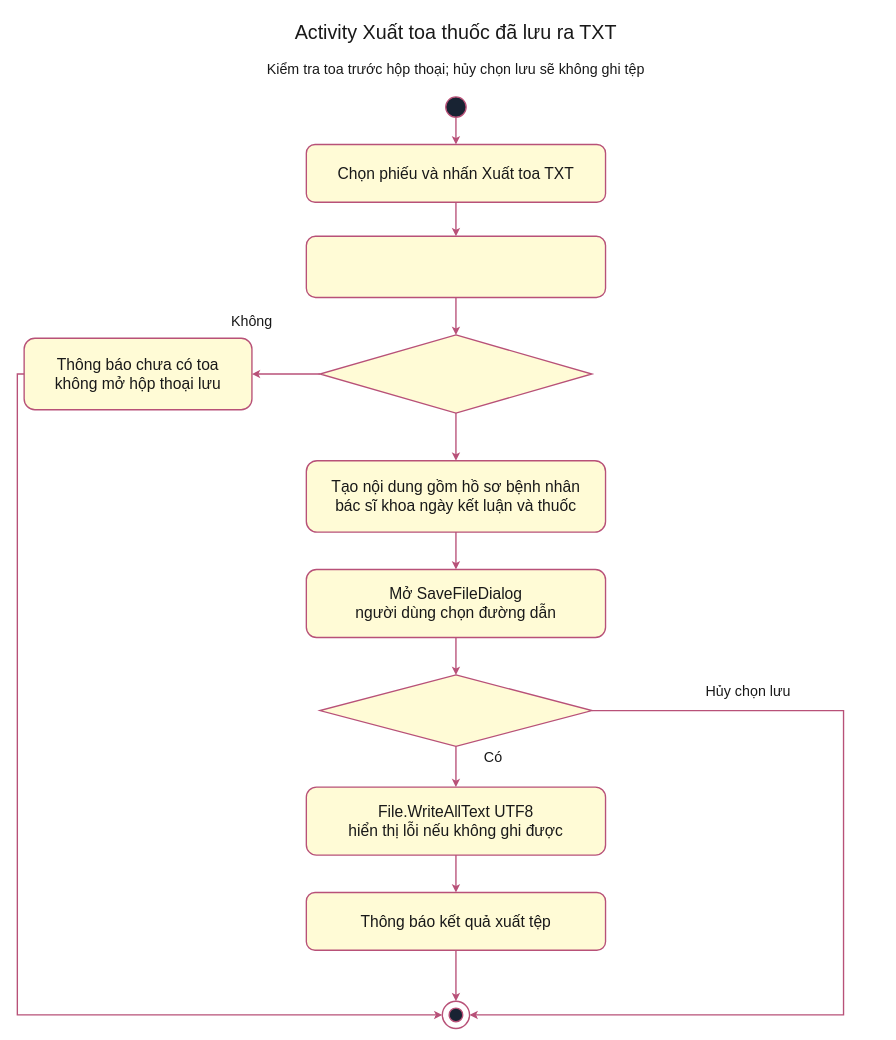
This 896x1040 diagram has some shape labels left out. Here are the shapes that lost their labels. From the top down, the centre of each, then its label:
(x=455, y=266): Đọc đầu toa định danh và các dòng thuốc đã lưu
(x=455, y=373): Có đầu toa và ít nhất một dòng thuốc?
(x=455, y=710): Người dùng chọn Lưu?
